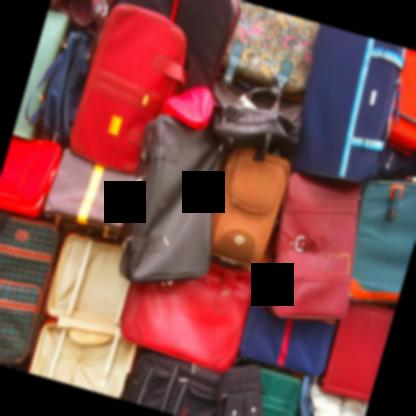backpack: (26, 33, 92, 145)
handbag: (271, 173, 364, 318), (208, 77, 304, 162), (217, 365, 262, 416)
suitcase: (0, 0, 415, 415), (69, 3, 192, 175), (288, 24, 407, 182), (29, 233, 136, 398), (125, 118, 225, 282), (121, 263, 255, 373), (269, 175, 361, 319), (116, 0, 242, 92), (219, 0, 320, 98), (0, 215, 64, 365), (350, 178, 416, 302), (318, 300, 395, 404), (0, 132, 63, 217), (386, 49, 416, 164)
